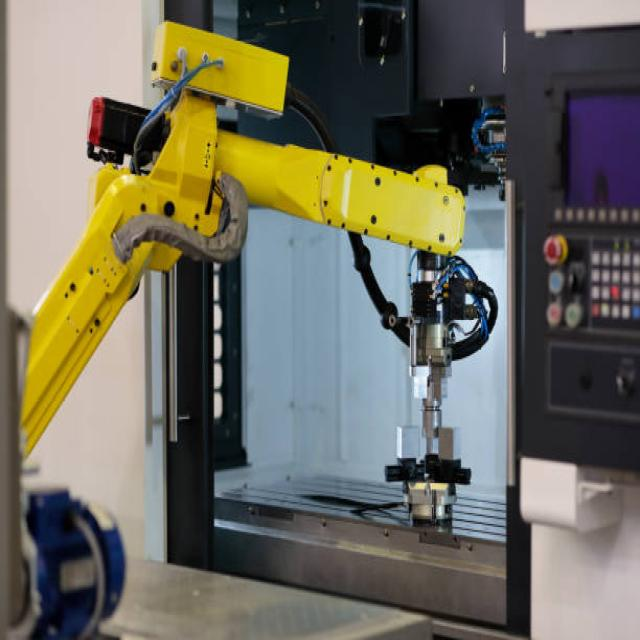Robotic-arm: (19, 11, 488, 478)
